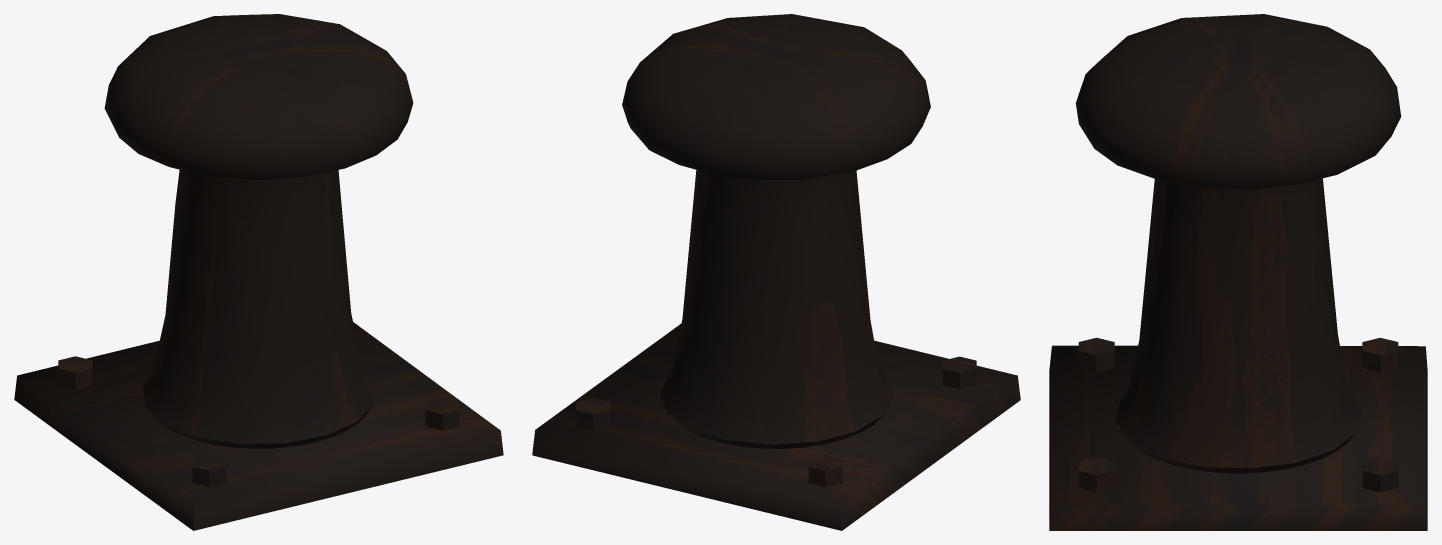
Rendered from SM_Banchina_Bitta_LOD1.fbx.
The picture shows the model from 3 angles, left to right: view 1: azimuth 30°, elevation 25°; view 2: azimuth 150°, elevation 25°; view 3: azimuth 270°, elevation 25°; orthographic projection. The views are drawn at different scales.
Parts seen in each view (by area): view 1: SM_Banchina_Bitta_LOD1; view 2: SM_Banchina_Bitta_LOD1; view 3: SM_Banchina_Bitta_LOD1.
Boxes of the visible parts, x1,y1,x2,y2 form: SM_Banchina_Bitta_LOD1: (14, 14, 503, 530); SM_Banchina_Bitta_LOD1: (532, 14, 1020, 530); SM_Banchina_Bitta_LOD1: (1049, 14, 1427, 530).
Size of the model in its own units: 40 by 40 by 46.6.
1 material, 1 textured.
